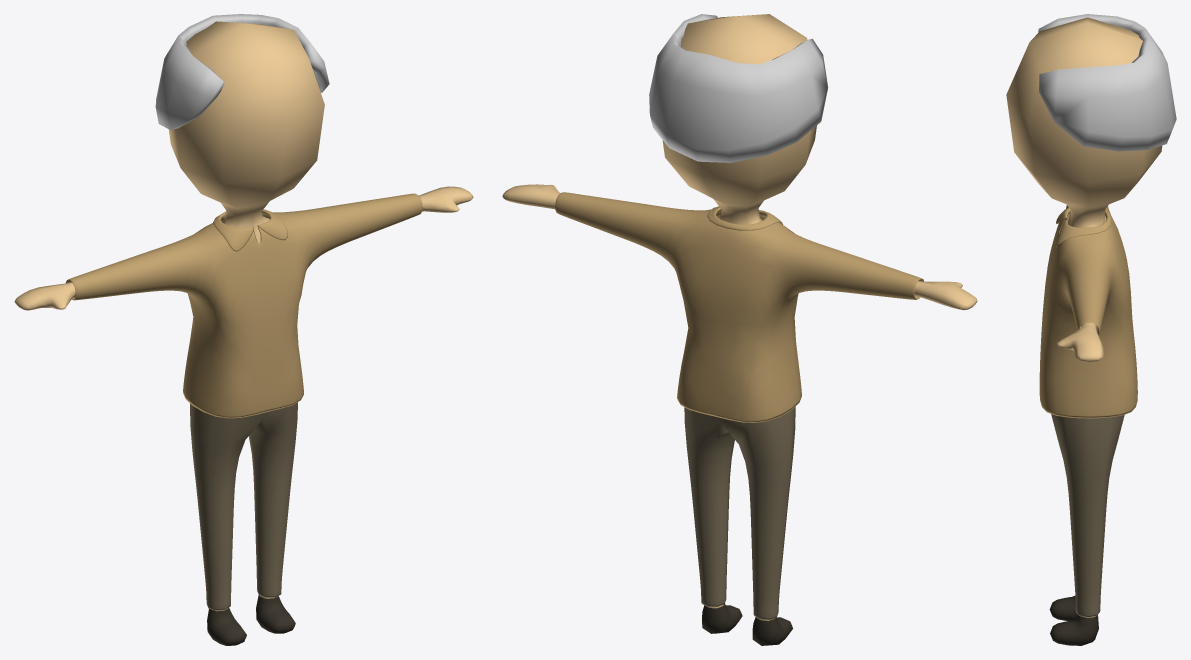
Rendered from body_old_man.fbx.
The picture shows the model from 3 angles, left to right: view 1: azimuth 30°, elevation 25°; view 2: azimuth 150°, elevation 25°; view 3: azimuth 270°, elevation 25°; orthographic projection. The views are drawn at different scales.
Parts seen in each view (by area): view 1: shirt_old_man, body_old_man, pant_old_man, hair_old_man, shoe_old_man; view 2: shirt_old_man, hair_old_man, pant_old_man, body_old_man, shoe_old_man; view 3: body_old_man, shirt_old_man, hair_old_man, pant_old_man, shoe_old_man.
Boxes of the visible parts, x1=… form: shirt_old_man: x1=66, y1=193, x2=422, y2=418; body_old_man: x1=14, y1=21, x2=473, y2=611; pant_old_man: x1=190, y1=402, x2=297, y2=610; hair_old_man: x1=155, y1=14, x2=329, y2=129; shoe_old_man: x1=207, y1=595, x2=295, y2=645; shirt_old_man: x1=555, y1=192, x2=923, y2=422; hair_old_man: x1=649, y1=14, x2=828, y2=162; pant_old_man: x1=684, y1=407, x2=795, y2=619; body_old_man: x1=502, y1=14, x2=977, y2=620; shoe_old_man: x1=702, y1=603, x2=792, y2=645; body_old_man: x1=1006, y1=17, x2=1162, y2=617; shirt_old_man: x1=1039, y1=205, x2=1137, y2=418; hair_old_man: x1=1038, y1=14, x2=1176, y2=151; pant_old_man: x1=1051, y1=414, x2=1124, y2=617; shoe_old_man: x1=1049, y1=596, x2=1098, y2=645.
Size of the model in its own units: 156 by 200 by 50.68.
